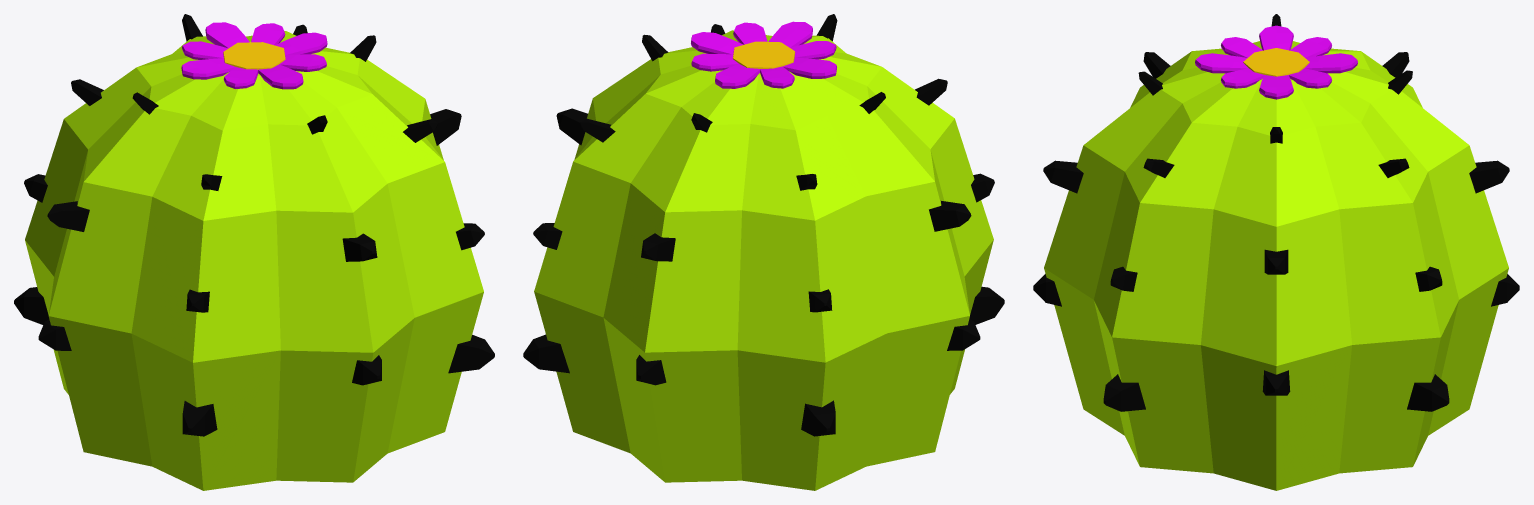
File: Cardon06_00Brazos_Flor_Magenta.fbx
The picture shows the model from 3 angles, left to right: view 1: azimuth 30°, elevation 25°; view 2: azimuth 150°, elevation 25°; view 3: azimuth 270°, elevation 25°; orthographic projection. The views are drawn at different scales.
Parts seen in each view (by area): view 1: Cactus, Espinas, Flor_Magenta; view 2: Cactus, Espinas, Flor_Magenta; view 3: Cactus, Espinas, Flor_Magenta.
Boxes of the visible parts, <box> form: Cactus: <box>25,31,483,490</box>; Espinas: <box>14,14,494,436</box>; Flor_Magenta: <box>181,22,327,89</box>; Cactus: <box>534,30,993,490</box>; Espinas: <box>523,14,1004,436</box>; Flor_Magenta: <box>691,21,836,88</box>; Cactus: <box>1044,41,1508,490</box>; Espinas: <box>1033,14,1519,411</box>; Flor_Magenta: <box>1195,25,1357,99</box>.
Size of the model in its own units: 47.77 by 37.93 by 47.77.
